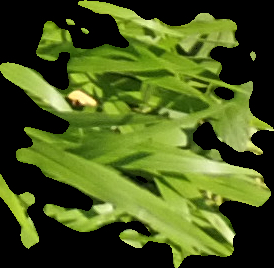grass: (1, 1, 272, 267)
